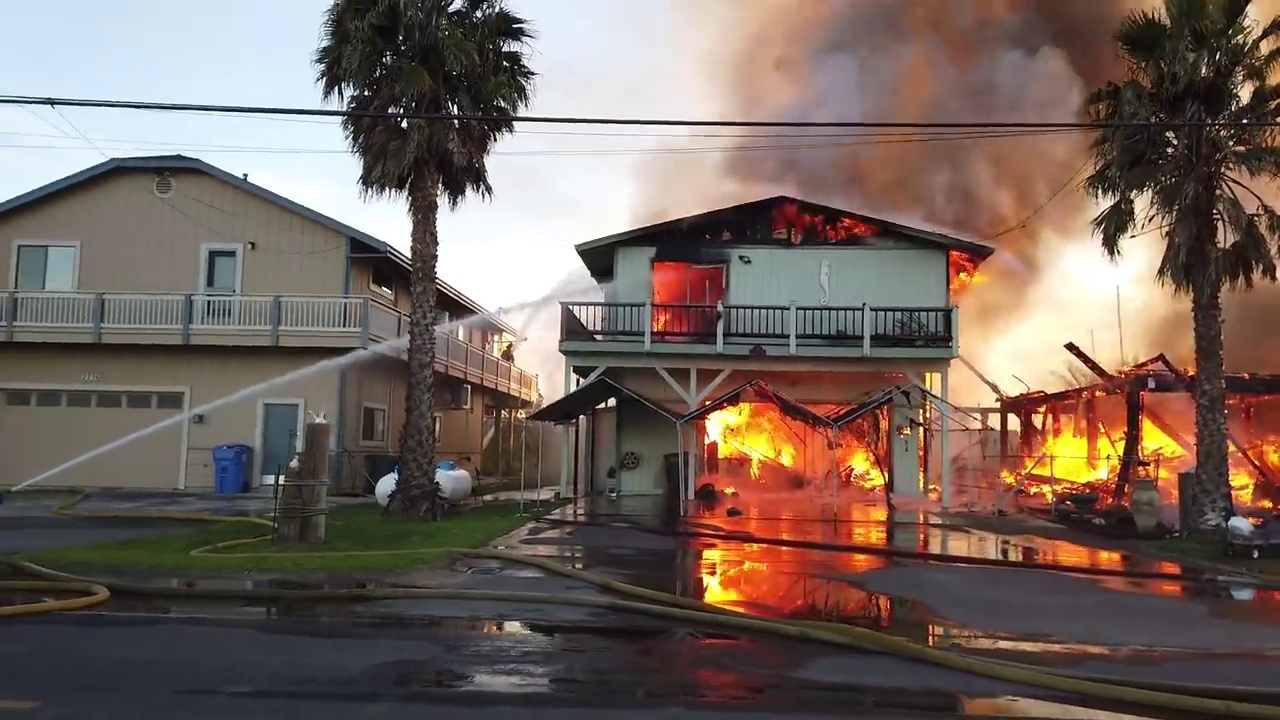fire: (1016, 398, 1187, 495), (705, 412, 794, 465), (1231, 422, 1280, 512), (658, 263, 718, 334), (775, 202, 870, 243), (943, 243, 988, 303), (840, 442, 887, 487)
smoke: (692, 2, 1100, 209), (1132, 225, 1280, 391), (993, 209, 1130, 306), (959, 307, 1130, 382)
